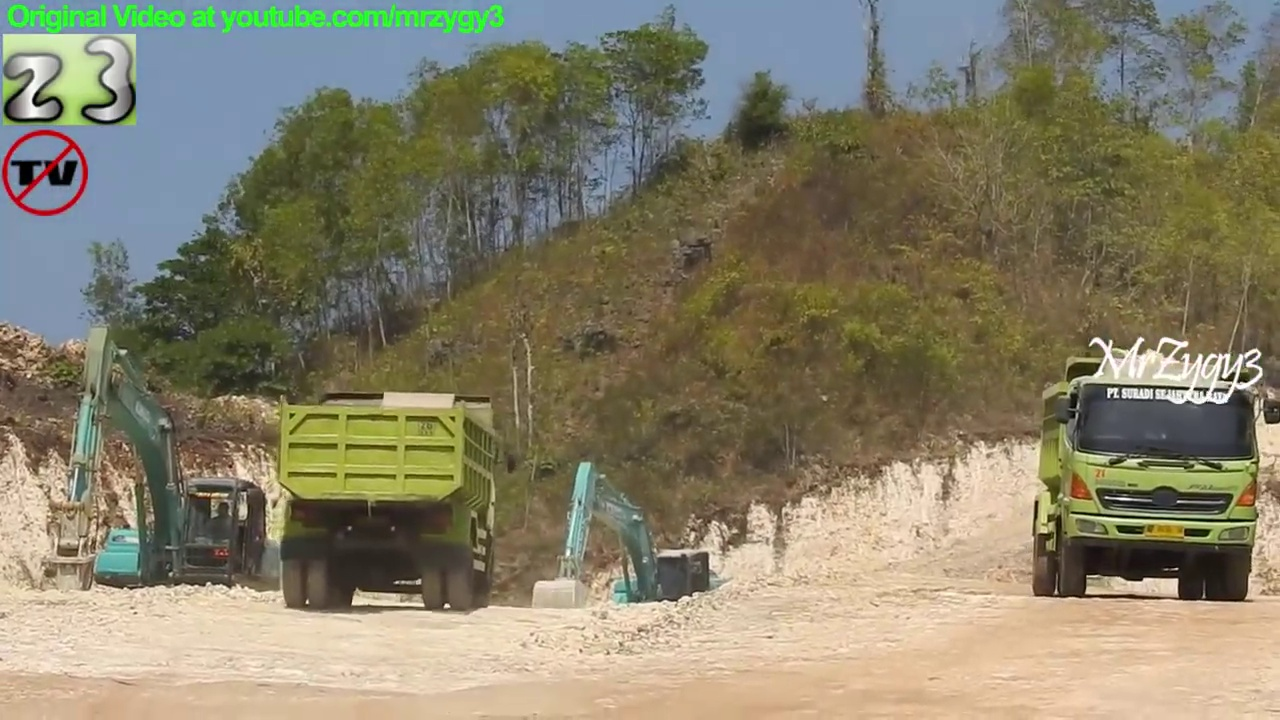excavator: (34, 319, 275, 624), (533, 459, 730, 654)
truck: (1027, 350, 1280, 611), (277, 388, 505, 617)
